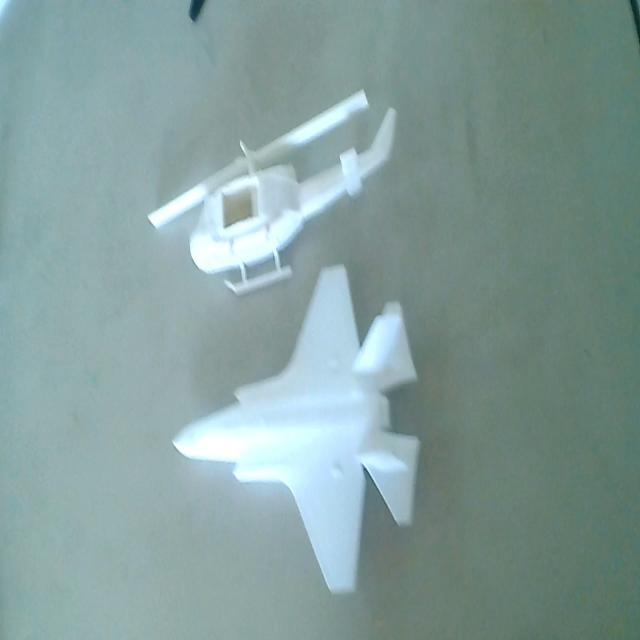Helicopter: (144, 87, 401, 298)
Jet: (168, 262, 420, 598)
